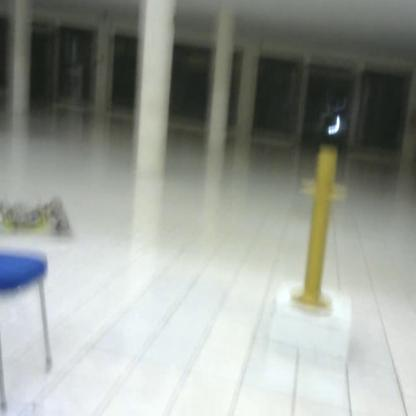pole: (288, 143, 352, 320)
